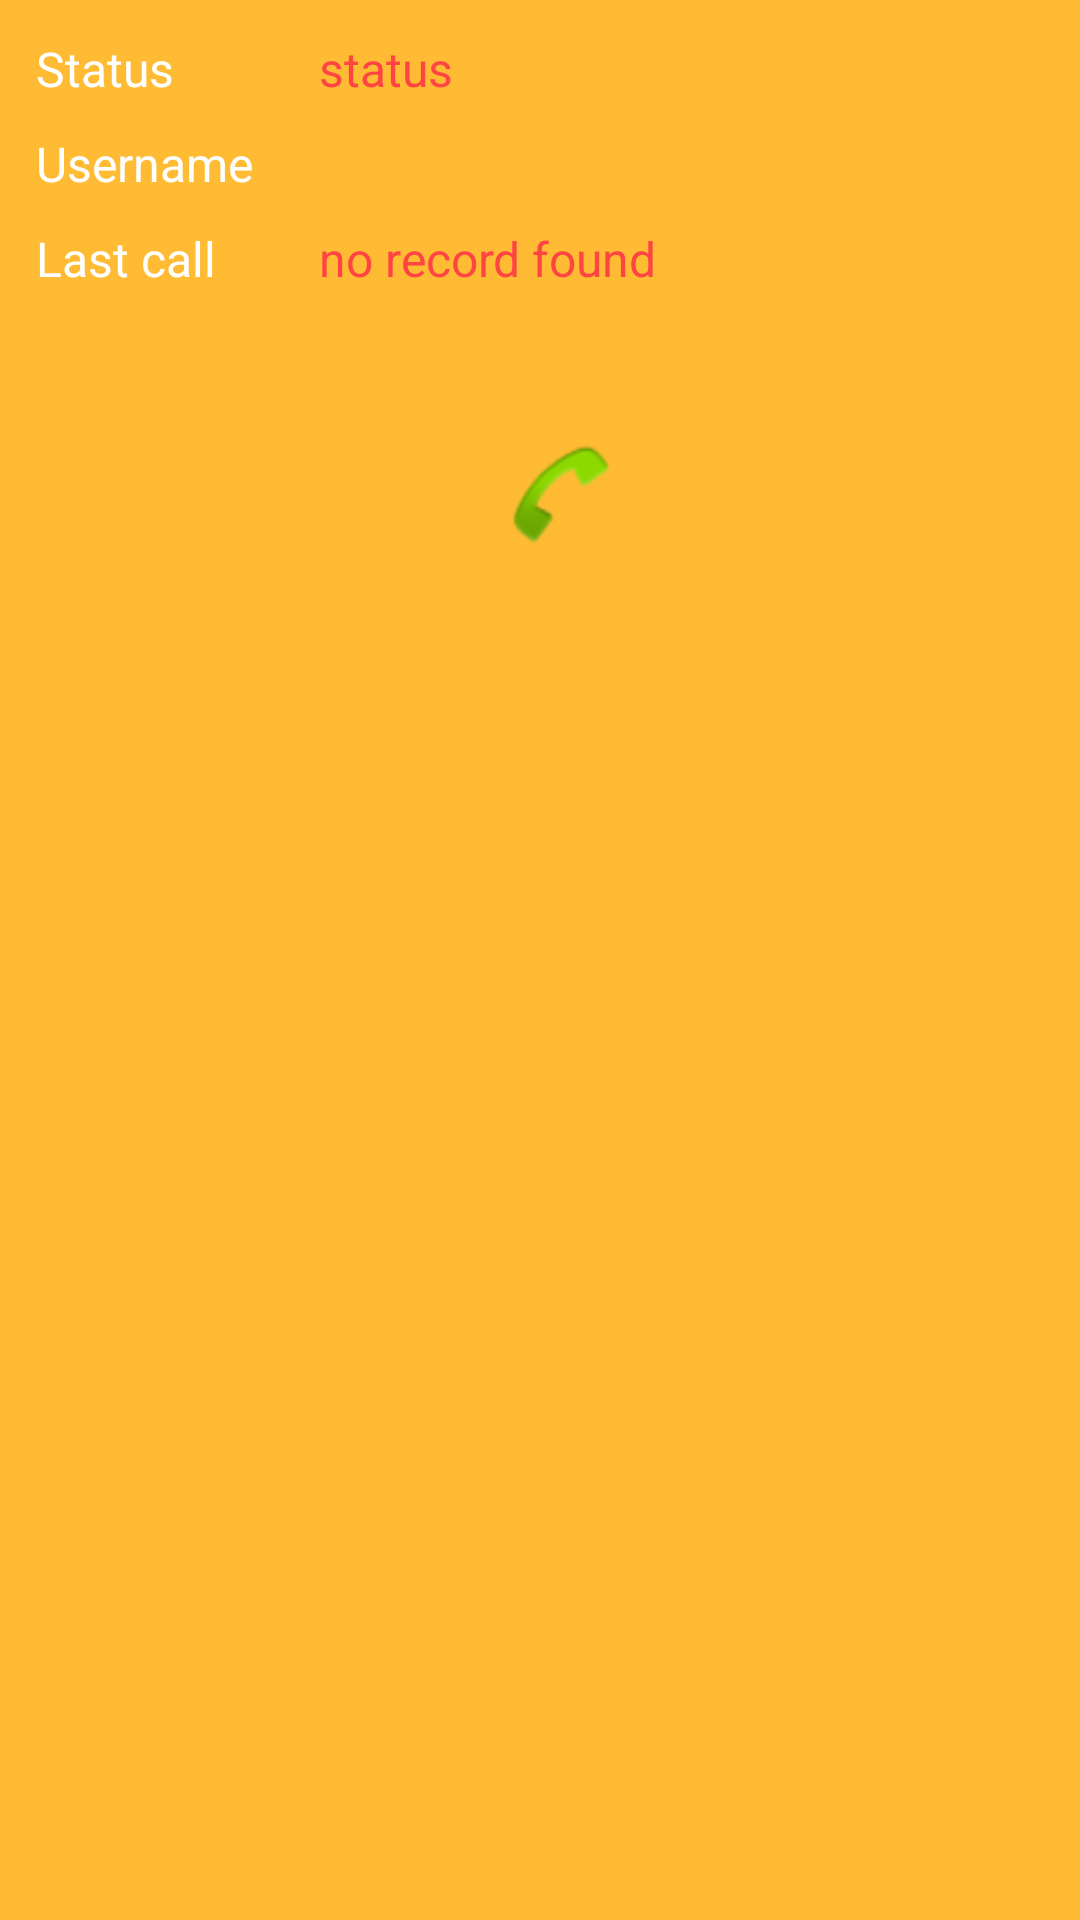

Named icons in this screenshot (1080x1920) and their bounding boxes, (x1, y1, x2, y2):
sym action call: (513, 446, 609, 542)
